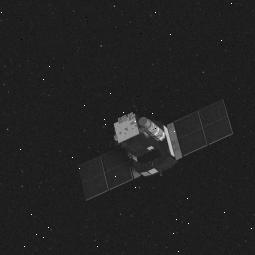soho: (78, 98, 224, 192)
